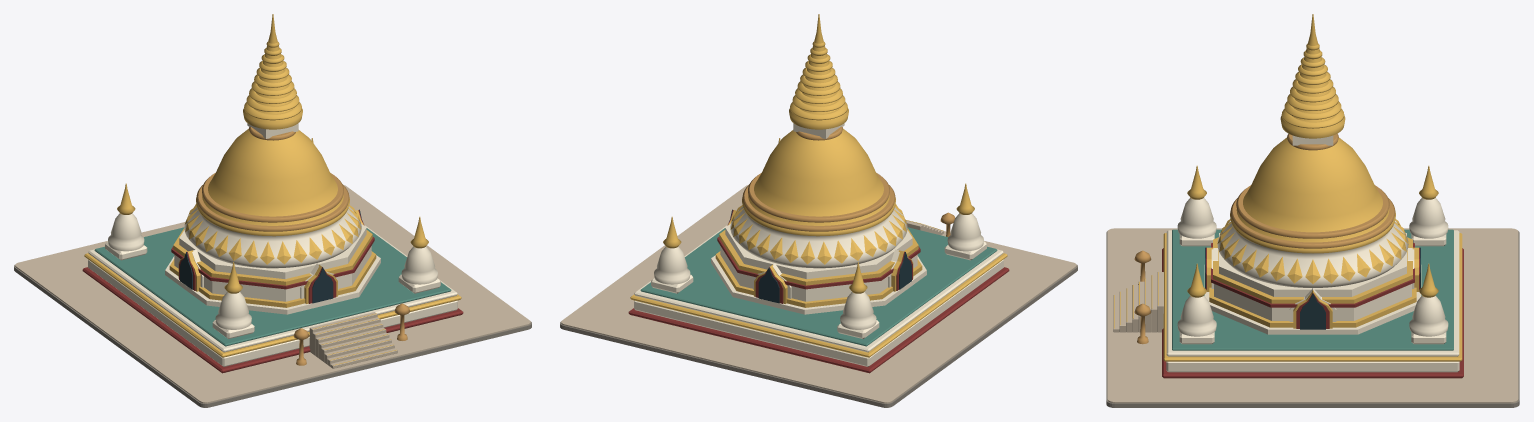
The picture shows the model from 3 angles, left to right: view 1: azimuth 30°, elevation 25°; view 2: azimuth 150°, elevation 25°; view 3: azimuth 270°, elevation 25°; orthographic projection. The views are drawn at different scales.
Parts seen in each view (by area): view 1: Gilded Reliquary, Pilgrim Court, Lotus Terrace, Cardinal Shrines; view 2: Gilded Reliquary, Pilgrim Court, Lotus Terrace, Cardinal Shrines; view 3: Gilded Reliquary, Pilgrim Court, Lotus Terrace, Cardinal Shrines.
Boxes of the visible parts, <box> form: Gilded Reliquary: <box>165,14,380,314</box>; Pilgrim Court: <box>14,185,531,407</box>; Lotus Terrace: <box>82,225,463,373</box>; Cardinal Shrines: <box>108,138,437,329</box>; Gilded Reliquary: <box>711,14,926,314</box>; Pilgrim Court: <box>560,185,1077,407</box>; Lotus Terrace: <box>628,225,1009,373</box>; Cardinal Shrines: <box>654,138,983,329</box>; Gilded Reliquary: <box>1204,14,1421,334</box>; Pilgrim Court: <box>1106,228,1519,407</box>; Lotus Terrace: <box>1162,229,1463,378</box>; Cardinal Shrines: <box>1177,165,1448,336</box>.
Bounding box in the file's own units: 20.4 × 16.7 × 20.4.
